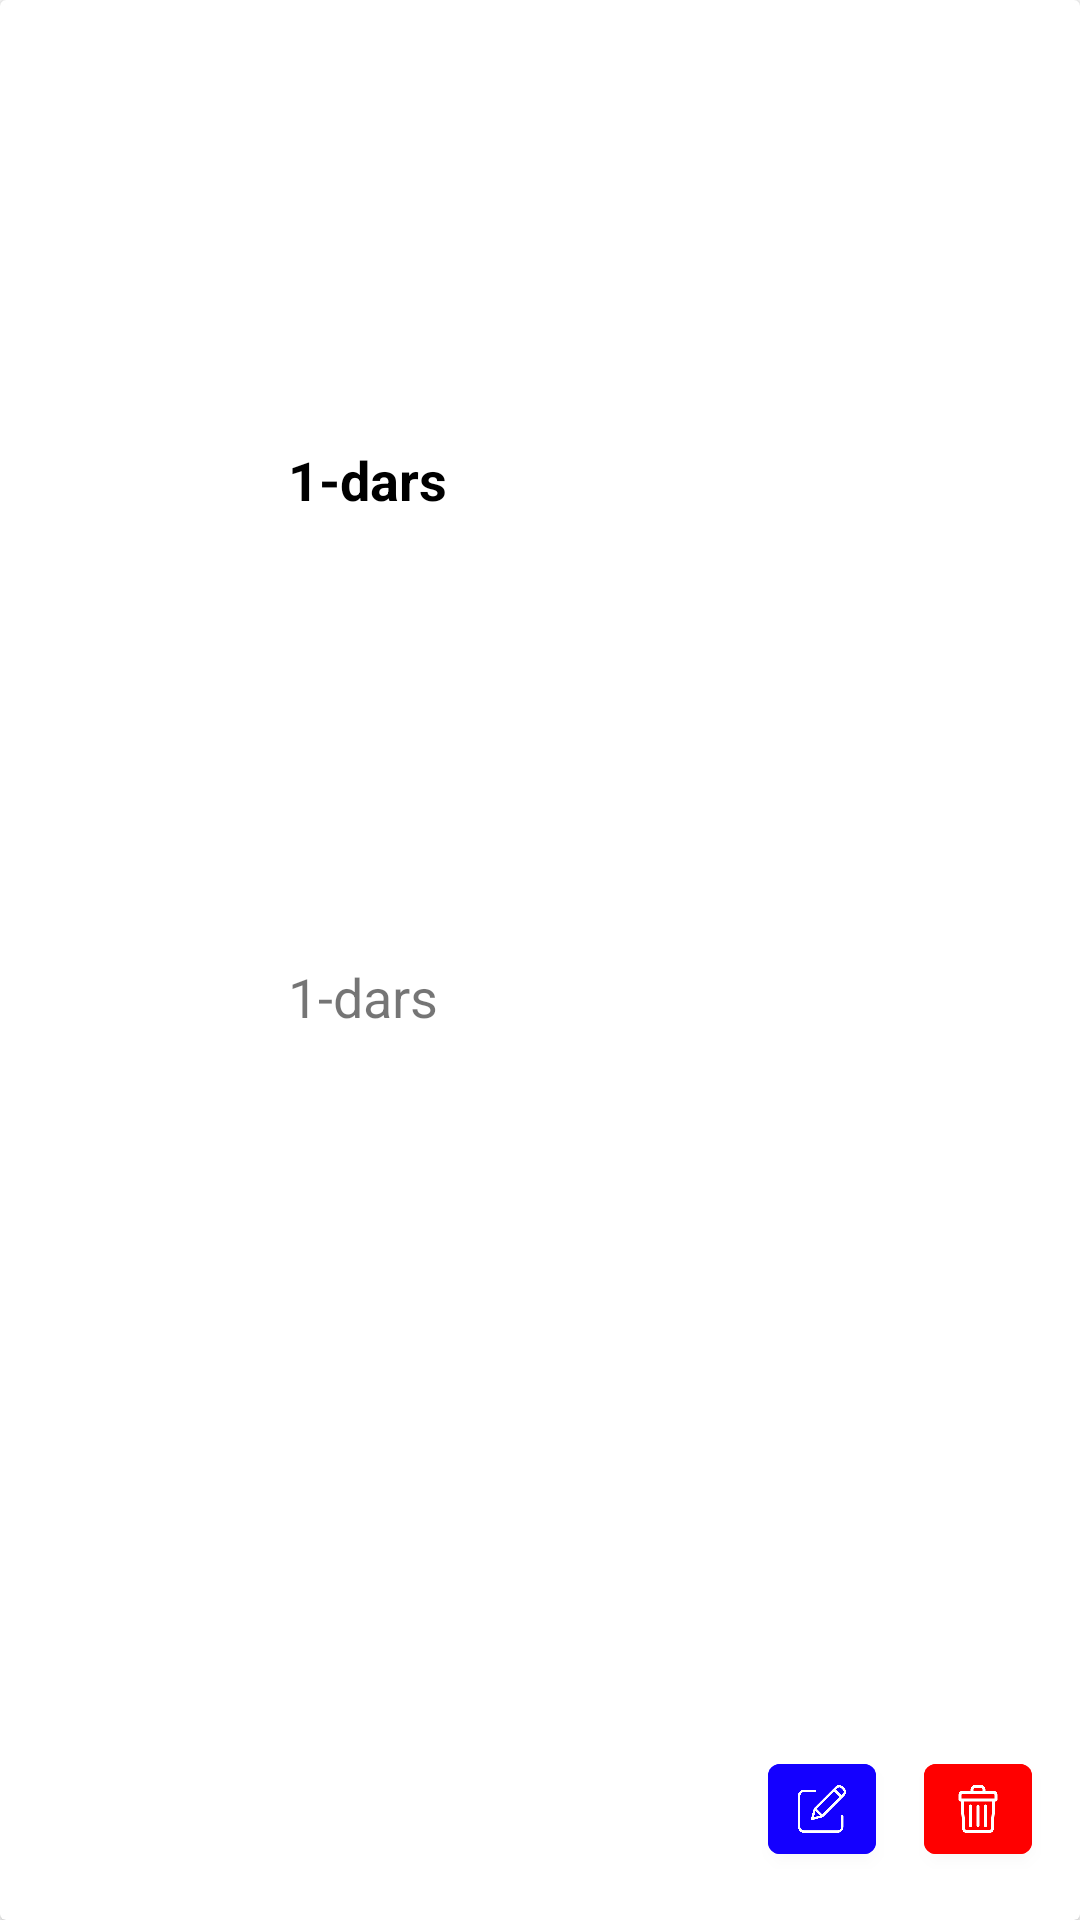

Named icons in this screenshot (1080w x 1920h) and their centers, (x=x, y=y):
edit: (x=822, y=1809)
trash: (x=978, y=1809)
